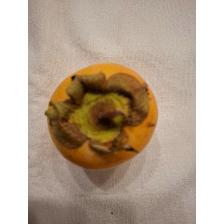Kaki: (43, 57, 161, 173)
